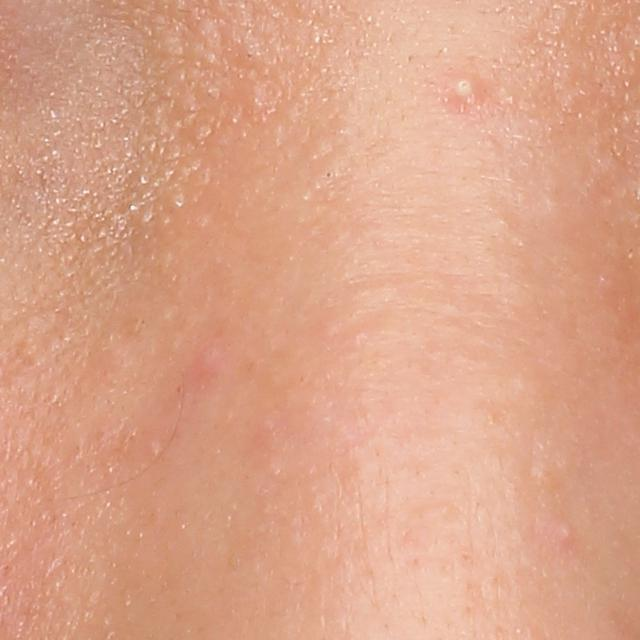comedo: (552, 518, 578, 547)
